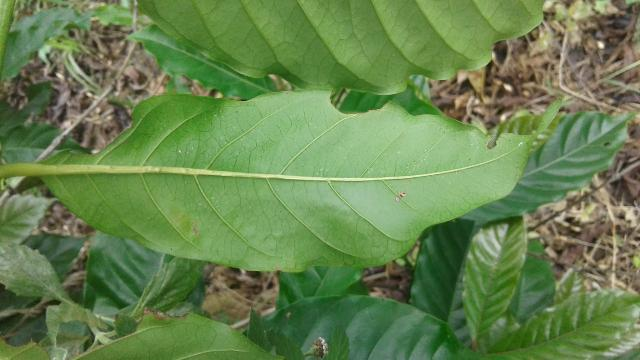rust_level_1: (32, 87, 556, 275)
